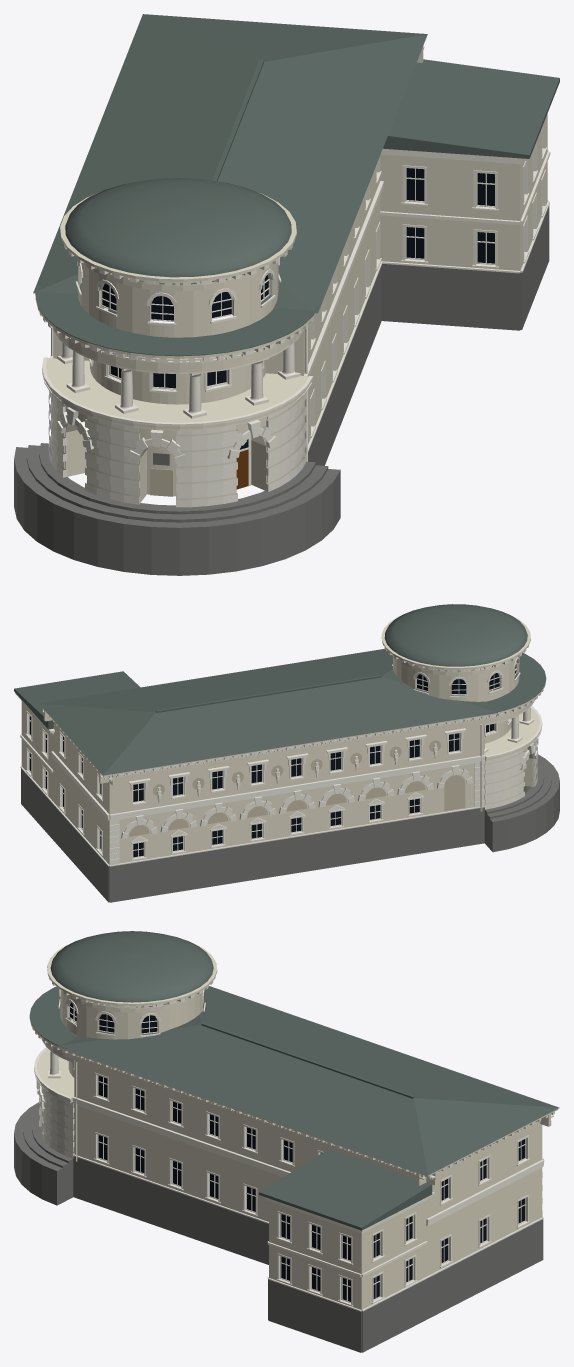
File: biblio_tolstogo.glb
3 renders of one model, top to bottom at view 1: azimuth 30°, elevation 25°; view 2: azimuth 150°, elevation 25°; view 3: azimuth 270°, elevation 25°, orthographic. The views are drawn at different scales.
Parts seen in each view (by area): view 1: biblio_tolstogo_roof, biblio_tolstogo_wall, biblio_tolstogo_stone, biblio_tolstogo_trim, biblio_tolstogo_glass, biblio_tolstogo_trim_s; view 2: biblio_tolstogo_roof, biblio_tolstogo_wall, biblio_tolstogo_stone, biblio_tolstogo_trim, biblio_tolstogo_glass, biblio_tolstogo_wall2; view 3: biblio_tolstogo_roof, biblio_tolstogo_wall, biblio_tolstogo_stone, biblio_tolstogo_trim, biblio_tolstogo_glass.
Part boxes in pixels (x1=…): biblio_tolstogo_roof: x1=33, y1=14, x2=559, y2=356; biblio_tolstogo_wall: x1=35, y1=46, x2=547, y2=502; biblio_tolstogo_stone: x1=14, y1=205, x2=549, y2=575; biblio_tolstogo_trim: x1=39, y1=46, x2=550, y2=507; biblio_tolstogo_glass: x1=102, y1=168, x2=494, y2=449; biblio_tolstogo_trim_s: x1=61, y1=342, x2=295, y2=413; biblio_tolstogo_roof: x1=14, y1=604, x2=546, y2=775; biblio_tolstogo_wall: x1=21, y1=613, x2=546, y2=864; biblio_tolstogo_stone: x1=21, y1=754, x2=559, y2=902; biblio_tolstogo_trim: x1=15, y1=644, x2=543, y2=866; biblio_tolstogo_glass: x1=29, y1=664, x2=516, y2=857; biblio_tolstogo_wall2: x1=128, y1=740, x2=465, y2=836; biblio_tolstogo_roof: x1=29, y1=931, x2=559, y2=1230; biblio_tolstogo_wall: x1=29, y1=942, x2=558, y2=1309; biblio_tolstogo_stone: x1=14, y1=1102, x2=543, y2=1352; biblio_tolstogo_trim: x1=32, y1=977, x2=554, y2=1311; biblio_tolstogo_glass: x1=70, y1=1002, x2=524, y2=1301.
Bounding box in the file's own units: 47.27 × 19.7 × 45.5.
